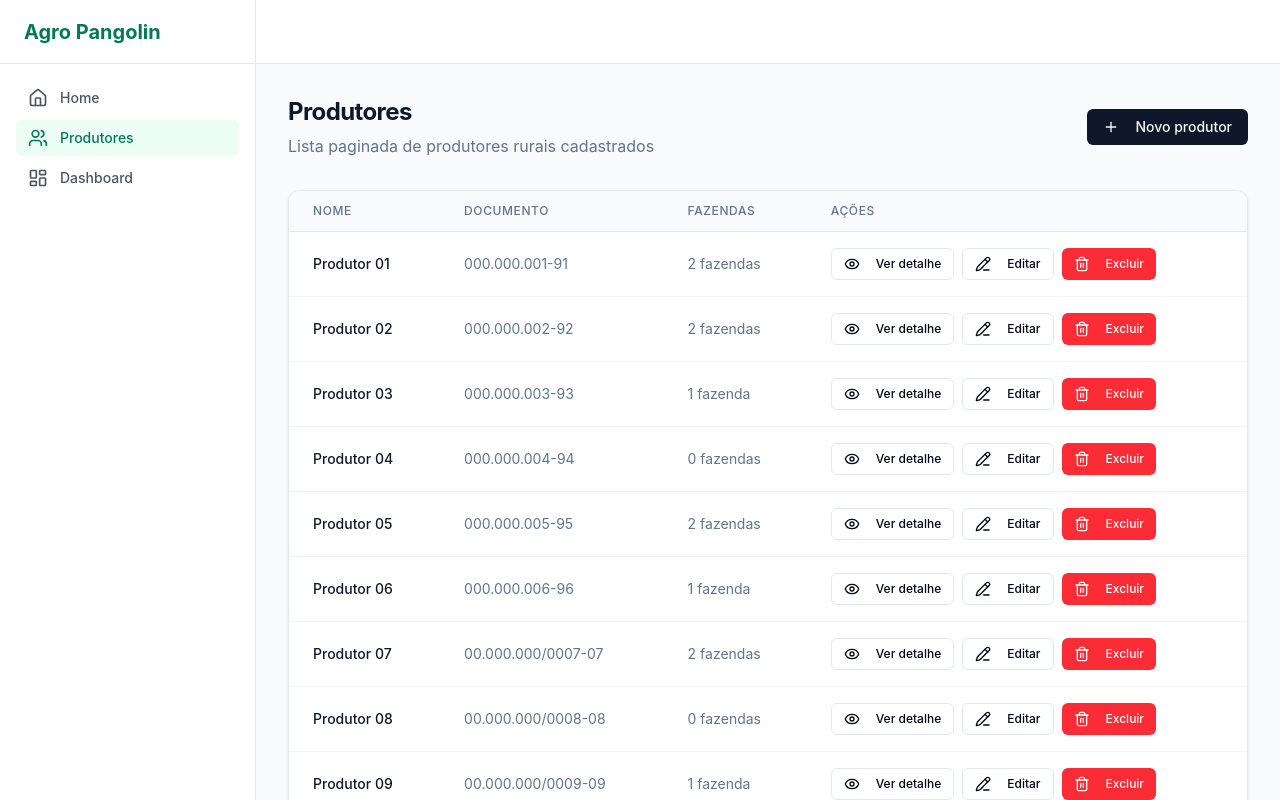
Página de listagem de produtores › permite navegar para detalhe a partir da linha
Expected: the text "Produtor 01" is shown, 289,232 -> 440,296
Click the link with aria-label "Ver detalhe de Produtor 01": (893, 264) 831,248 -> 954,280
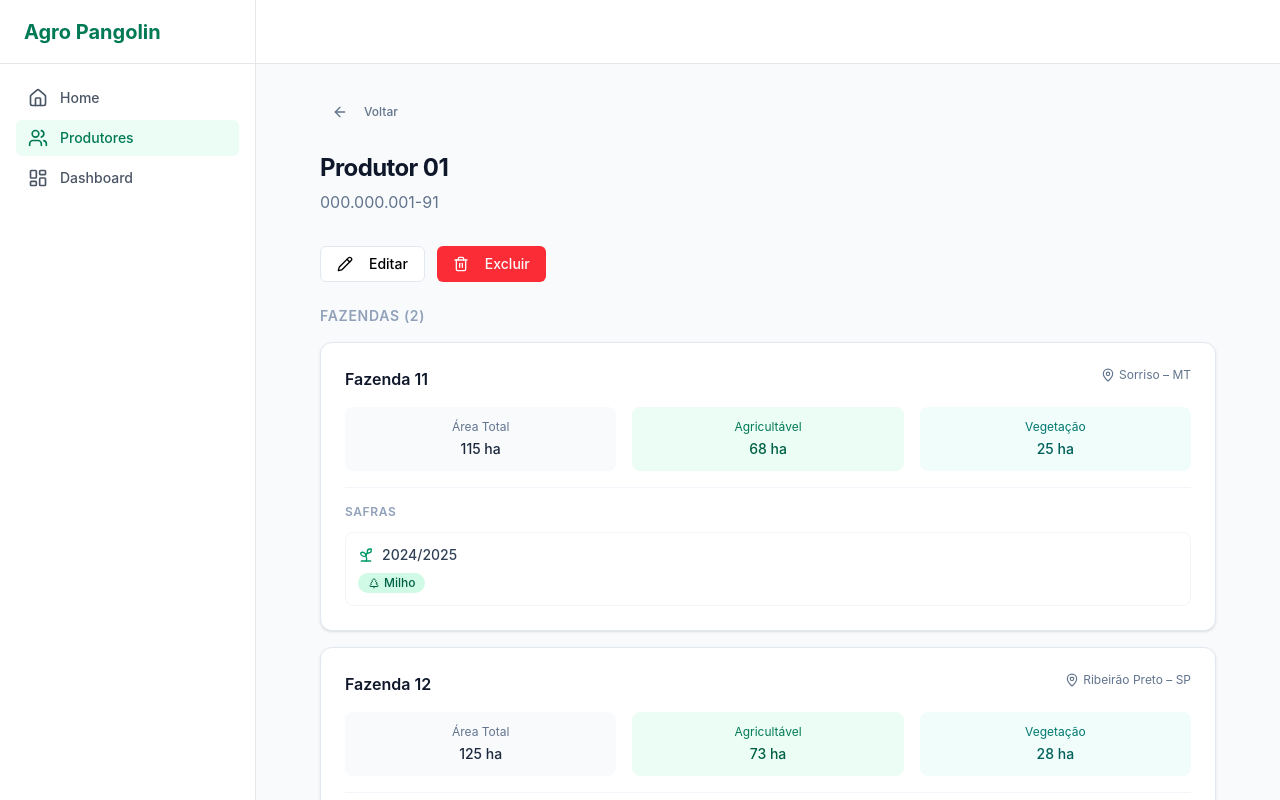
Now the heading "Produtor 01" is shown, box 320,152 -> 448,184
